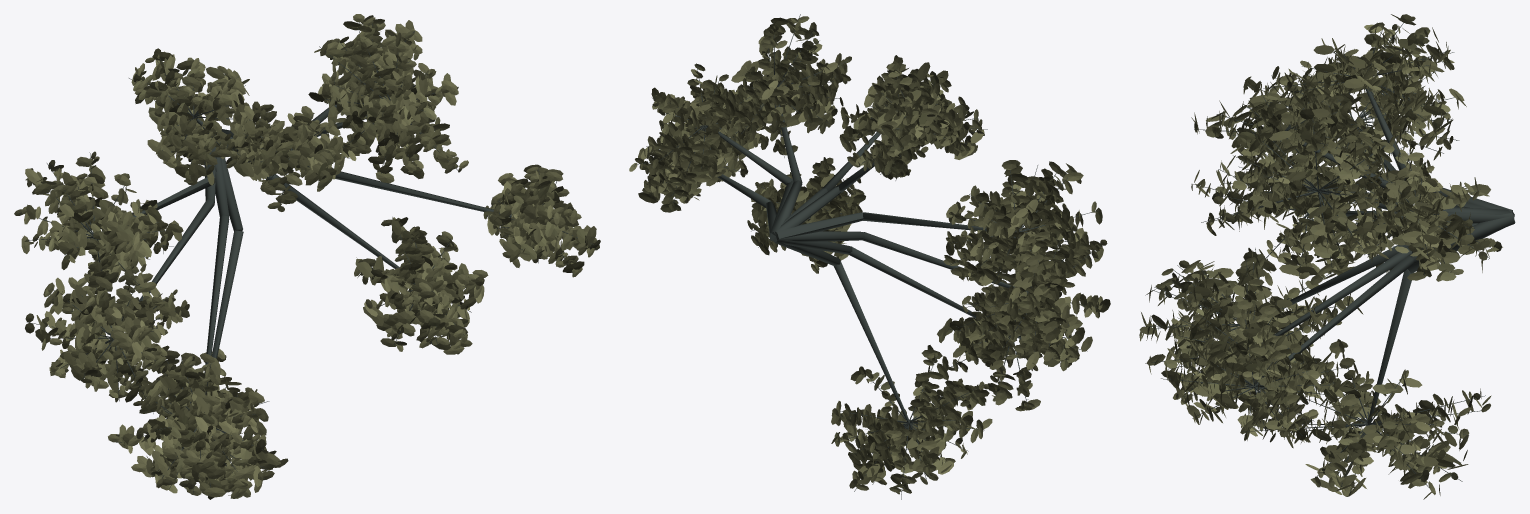
File: tree_m16.obj
The picture shows the model from 3 angles, left to right: view 1: azimuth 30°, elevation 25°; view 2: azimuth 150°, elevation 25°; view 3: azimuth 270°, elevation 25°; orthographic projection. The views are drawn at different scales.
Size of the model in its own units: 1.68 by 1.41 by 1.03.
Materials: 1 (1 with a texture image).
